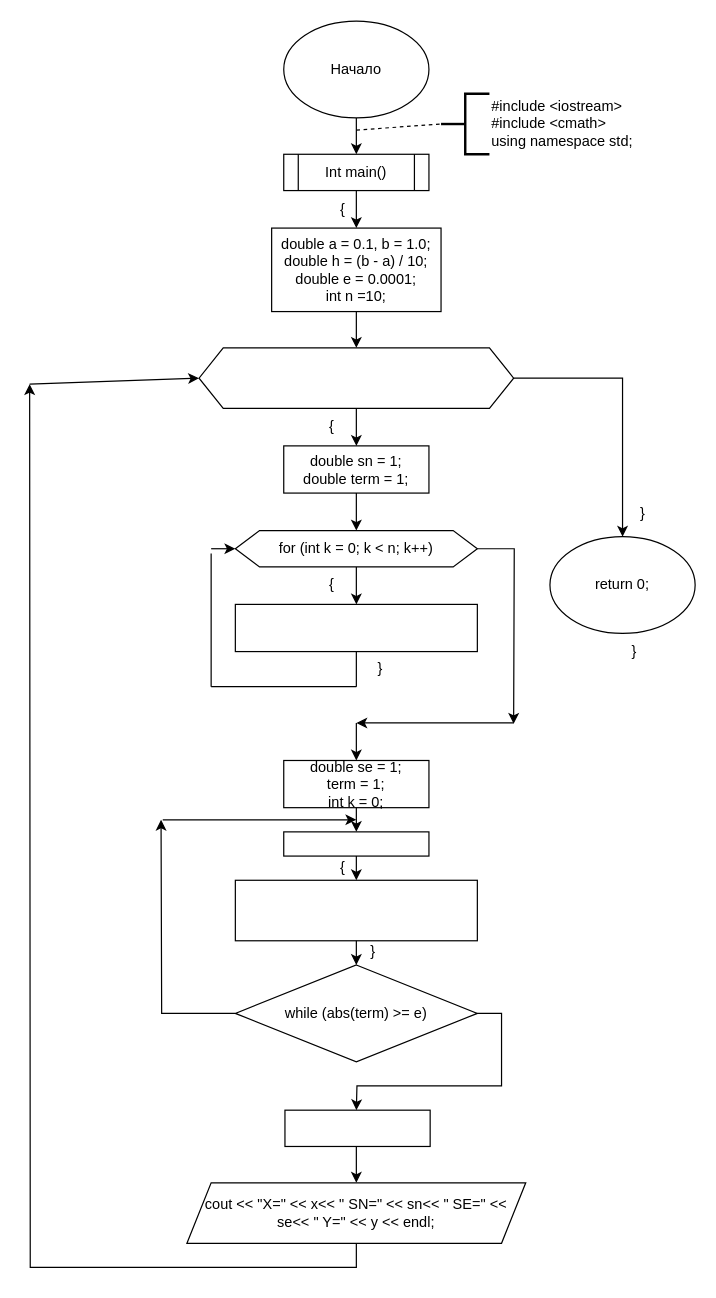
Some shapes in this 716 by 1298 pixel diagram are drawn without their labels. The shapes that lost their labels are listed below. From the top down, each one's centre as x and y in pixels, then its label:
At point 356,377: "for (double x = a; x <=b + 0.000001; x += h)".
At point 355,627: "term *= -x * x / ((2*k+1) * (2*k+2)); sn += term;".
At point 356,843: "do".
At point 355,910: "term *= -x * x/((2*k+1) * (2*k+2)); se +=term k++;".
At point 357,1127: "double y = cos(x);".
